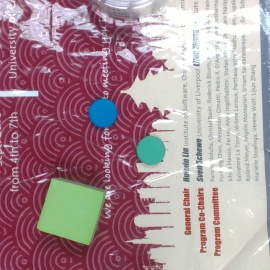blue: (88, 97, 119, 129)
green: (136, 135, 166, 165)
